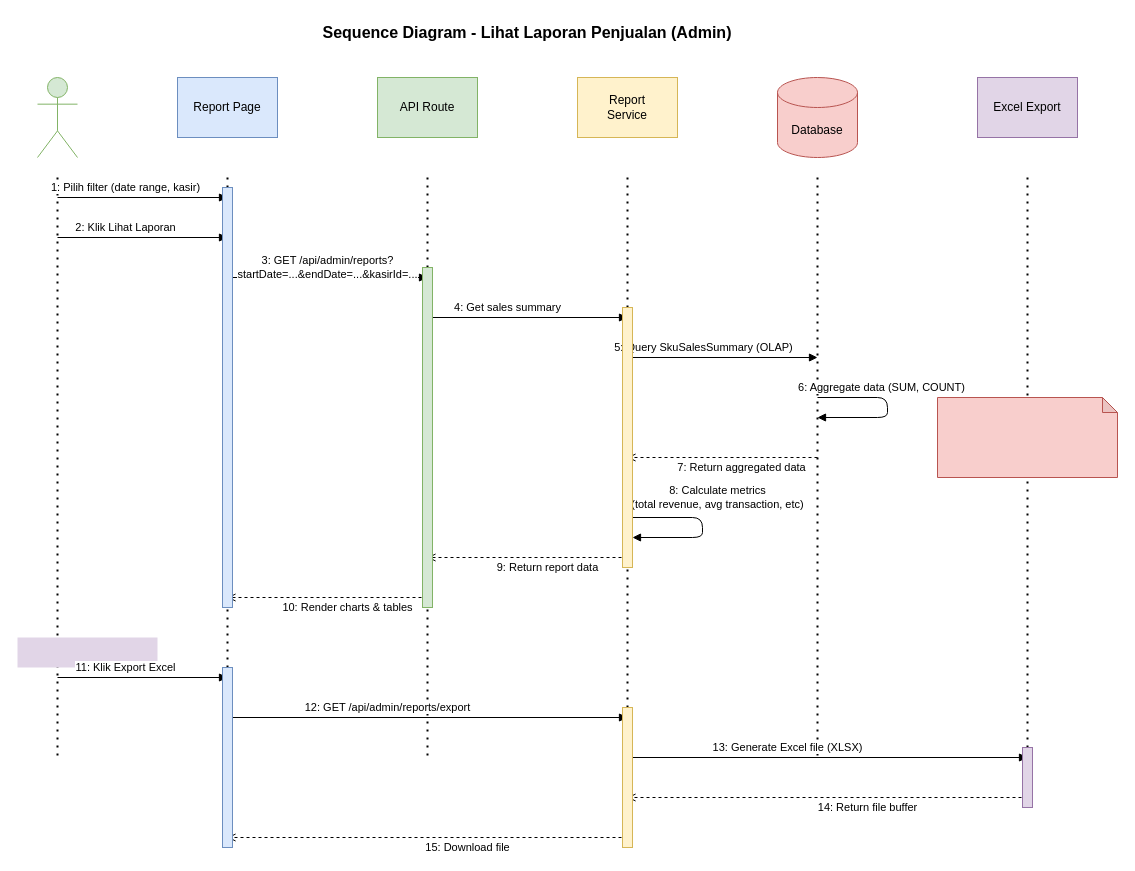
The diagram is 1135 pixels wide and 871 high, and some of its shapes have lost their labels. The centre of each missing label's shape, as x and y in pixels:
Admin: (x=57, y=117)
EXPORT TO EXCEL: (x=87, y=652)
Note: Data diambil dari SkuSalesSummary (OLAP) untuk performa cepat: (x=1027, y=437)
